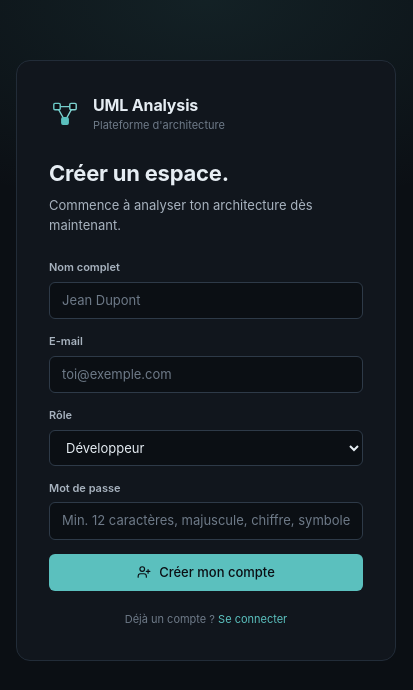
Test: Register › shows hint when password is too short
The image size is (413, 690).
Type "Ab1!" into the password field with placeholder "Min. 12 caractères, majuscule, chiffre, symbole" at (206, 521), box top-left (49, 502), bottom-right (363, 540)
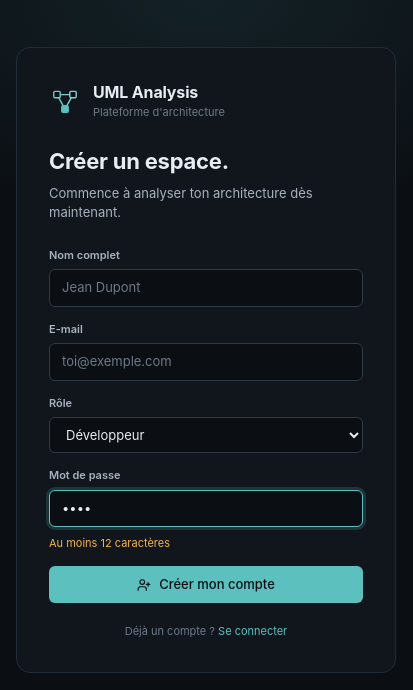
Expected: the text "Au moins 12 caractères" is shown, top-left (49, 536), bottom-right (170, 550)
